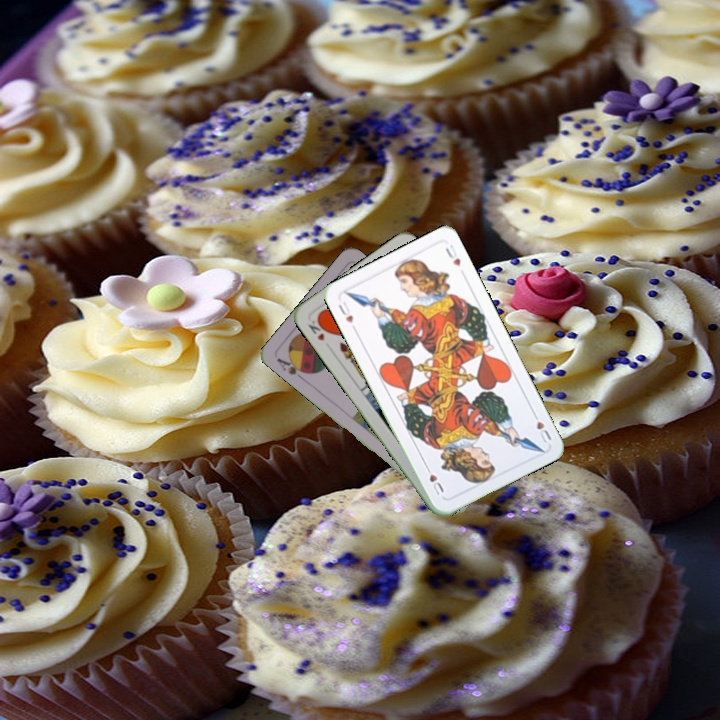HK: (304, 314, 330, 344)
HU: (529, 408, 554, 446), (334, 297, 356, 326)
SA: (272, 353, 311, 383)
